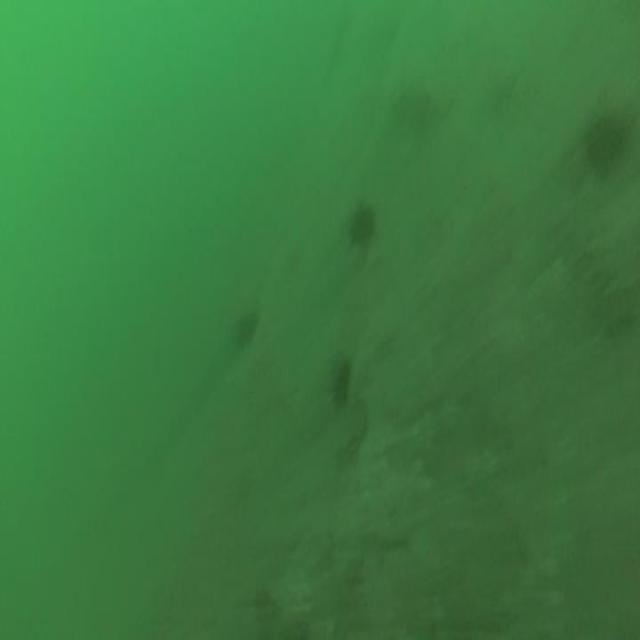echinus: (340, 192, 380, 258), (322, 346, 354, 416), (232, 304, 259, 349)
starfish: (575, 101, 628, 191)
